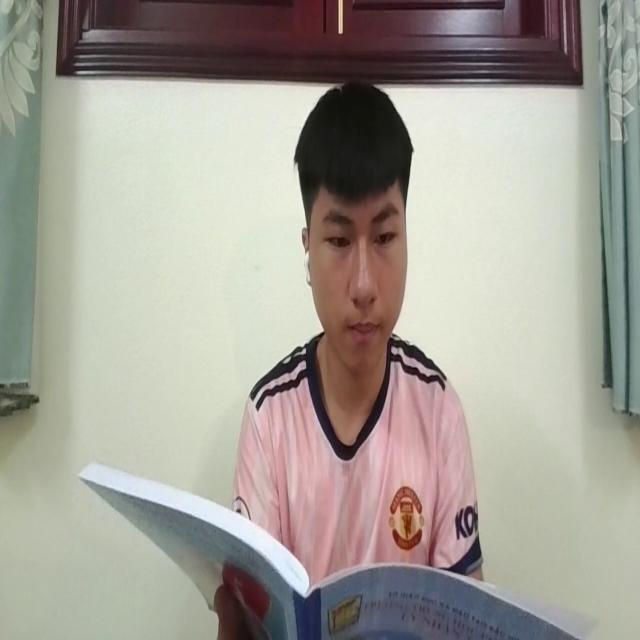book: (81, 449, 533, 640)
student: (232, 74, 494, 572)
